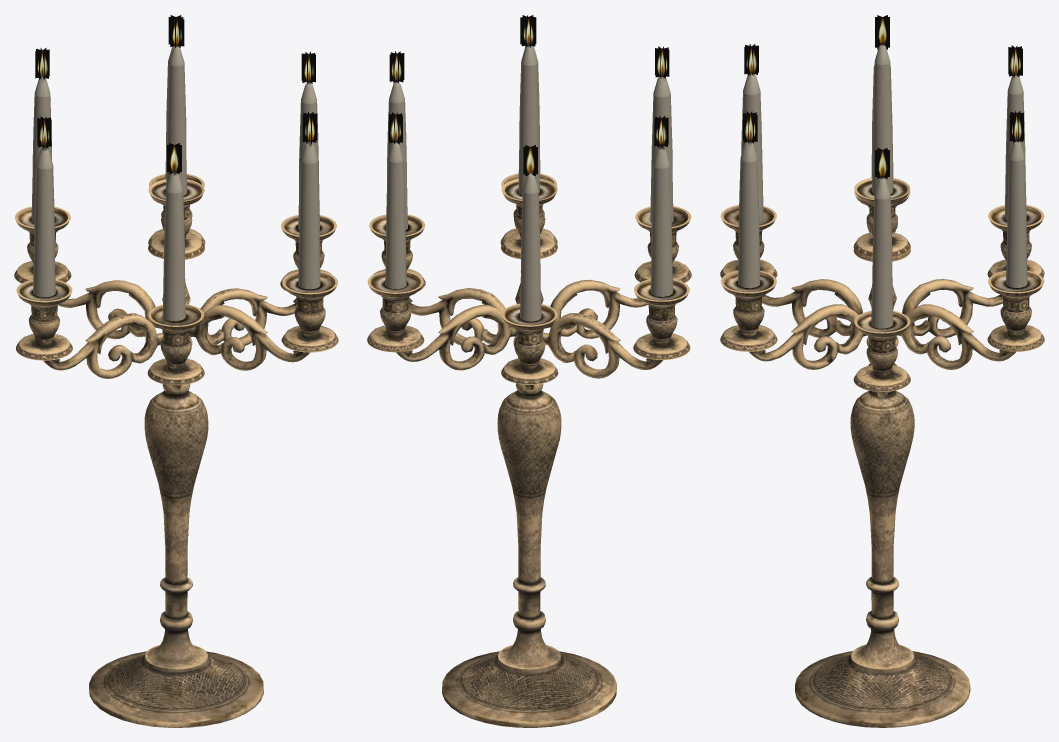
File: candelabra.glb
3 renders of one model, left to right at view 1: azimuth 30°, elevation 25°; view 2: azimuth 150°, elevation 25°; view 3: azimuth 270°, elevation 25°, orthographic.
Parts seen in each view (by area): view 1: brass_candleholder_03; view 2: brass_candleholder_03; view 3: brass_candleholder_03.
Part boxes in pixels (x1,y1,x2,y2): brass_candleholder_03: (14,15,338,727); brass_candleholder_03: (367,15,691,727); brass_candleholder_03: (720,15,1044,727).
Bounding box in the file's own units: 0.4083 × 0.8353 × 0.3646.
2 materials, 2 textured.
